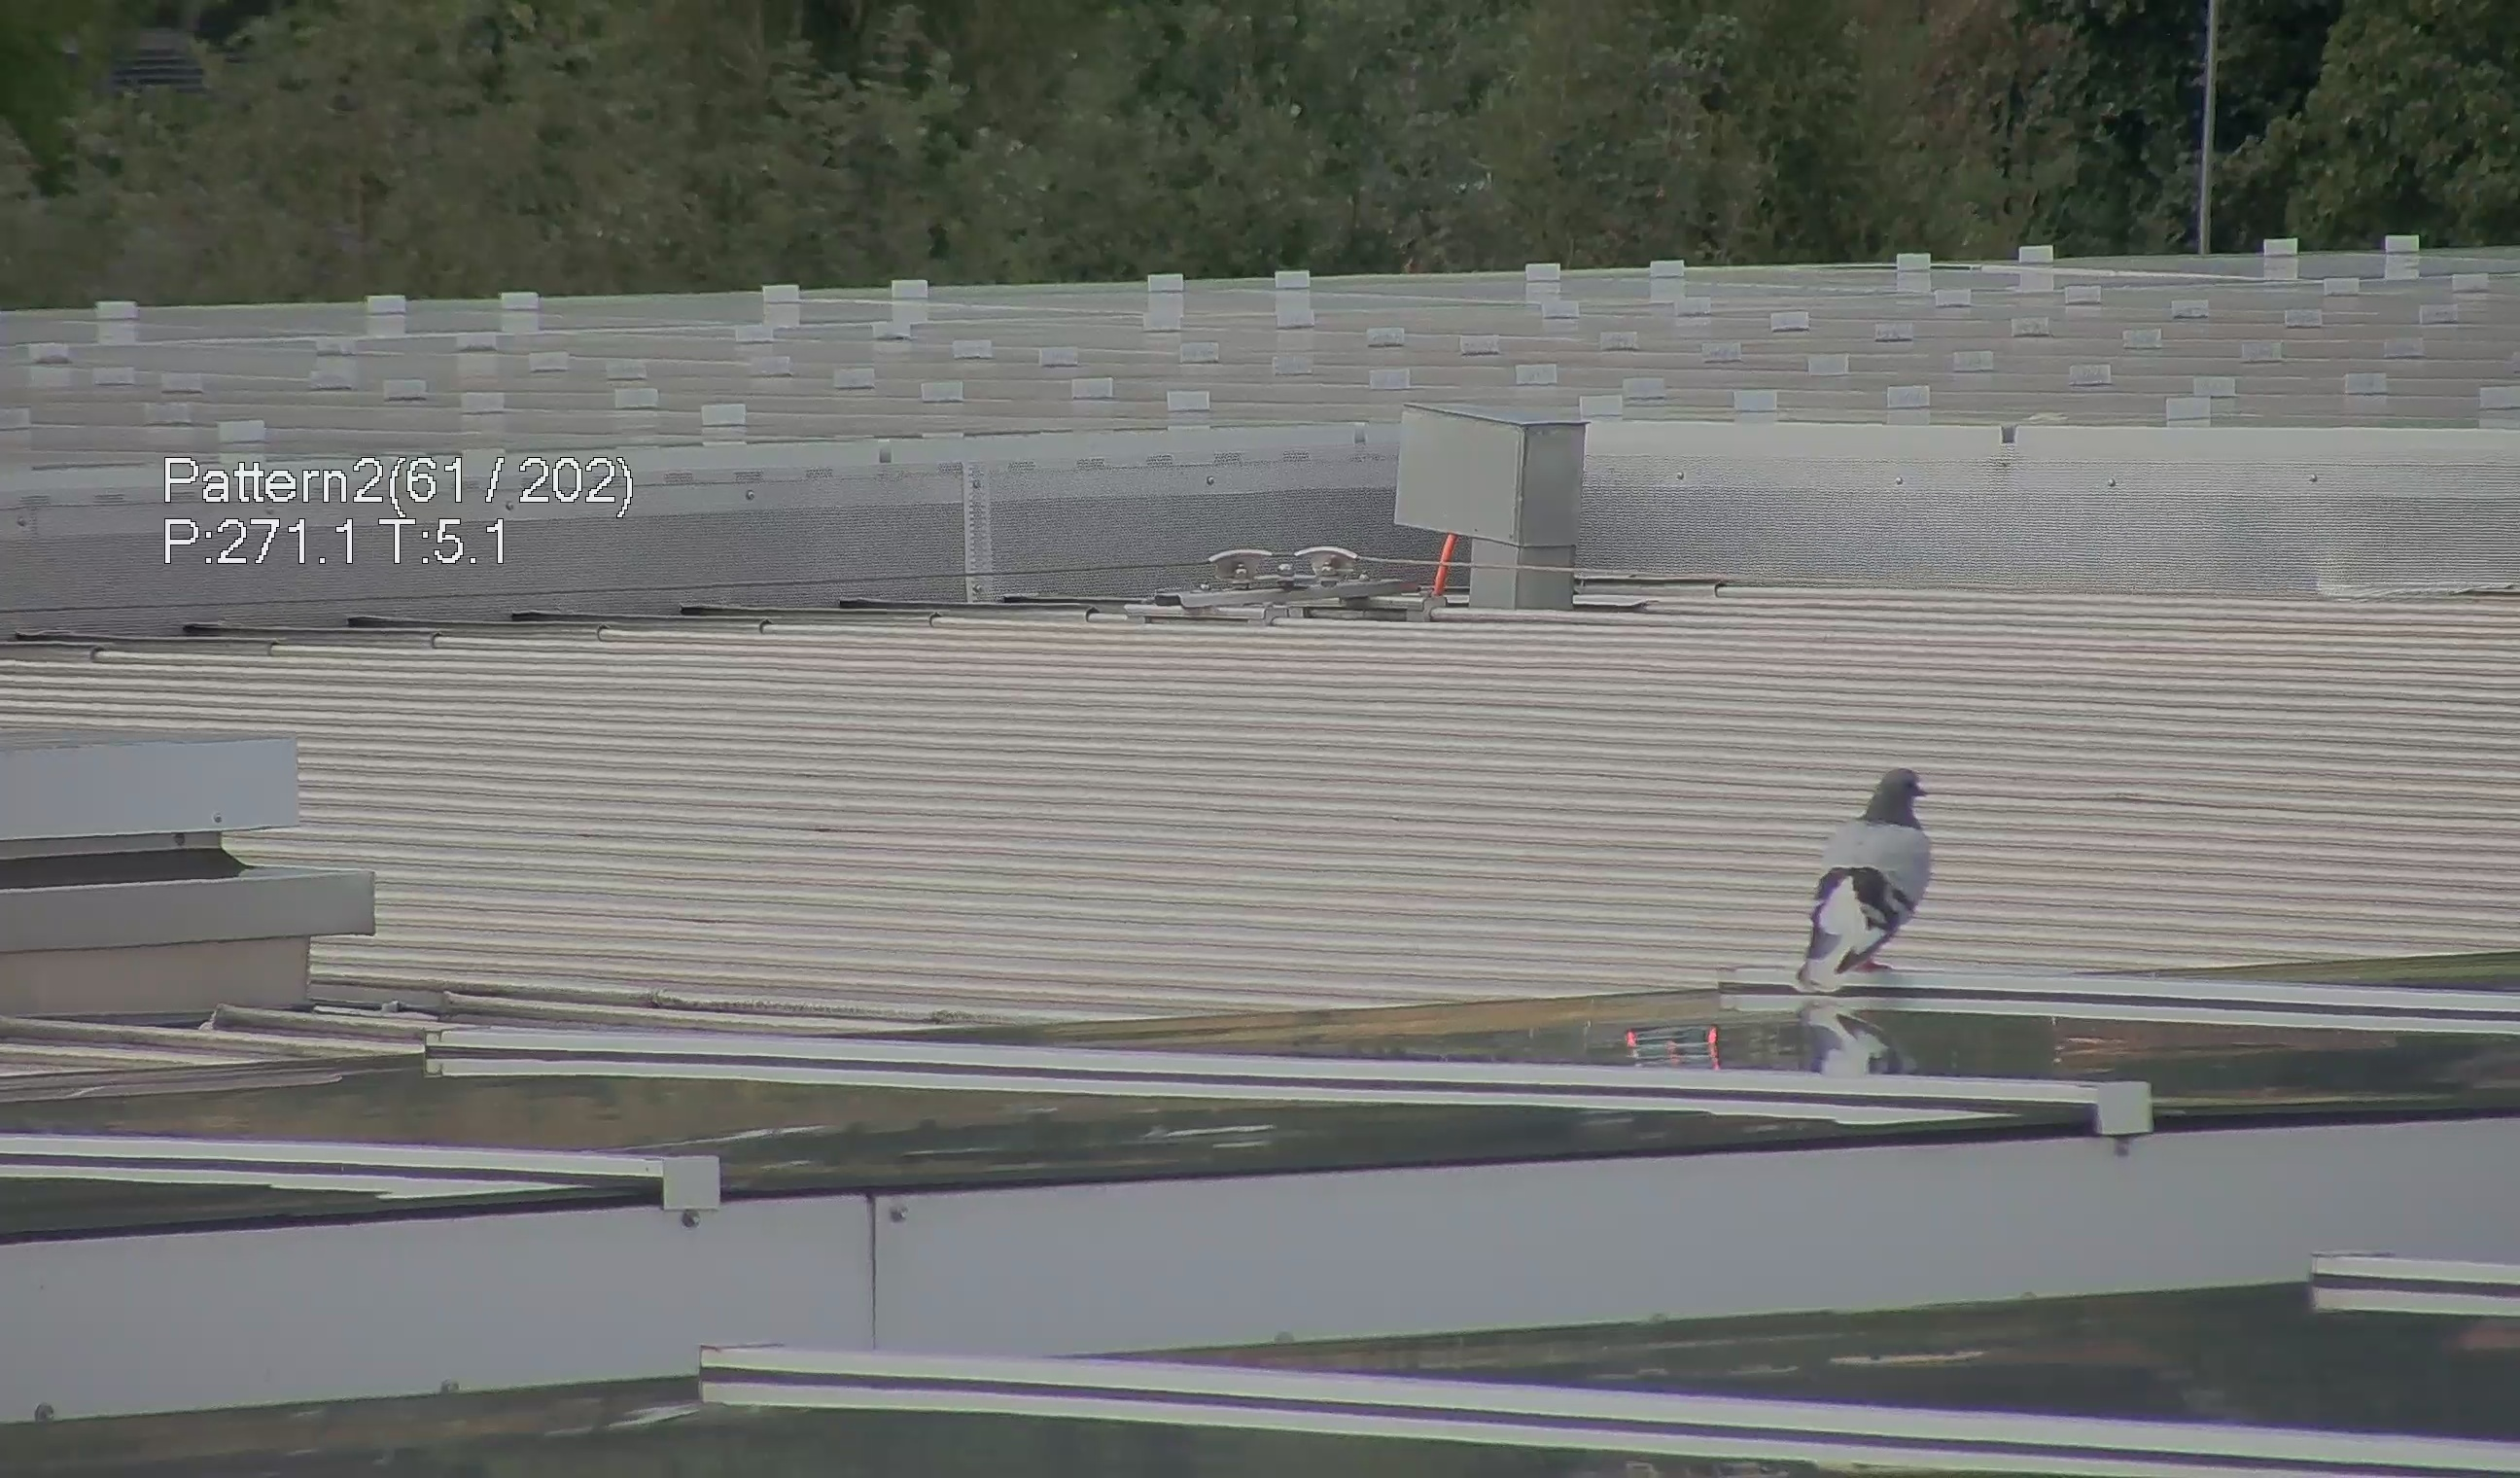Pigeon: (1806, 760, 1954, 991)
